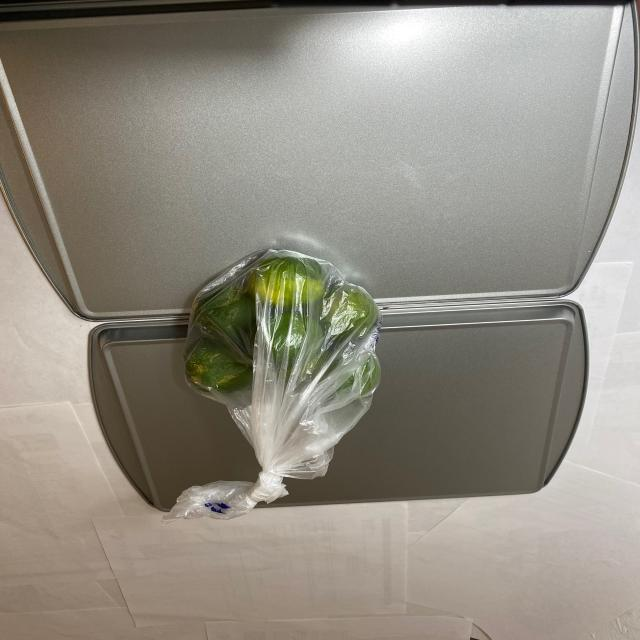lemon: (178, 244, 388, 417)
